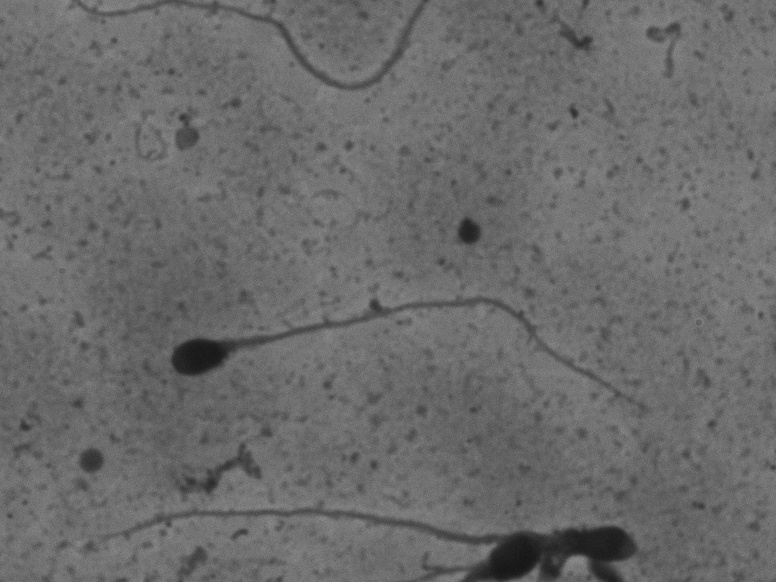Normal: (162, 274, 659, 469)
